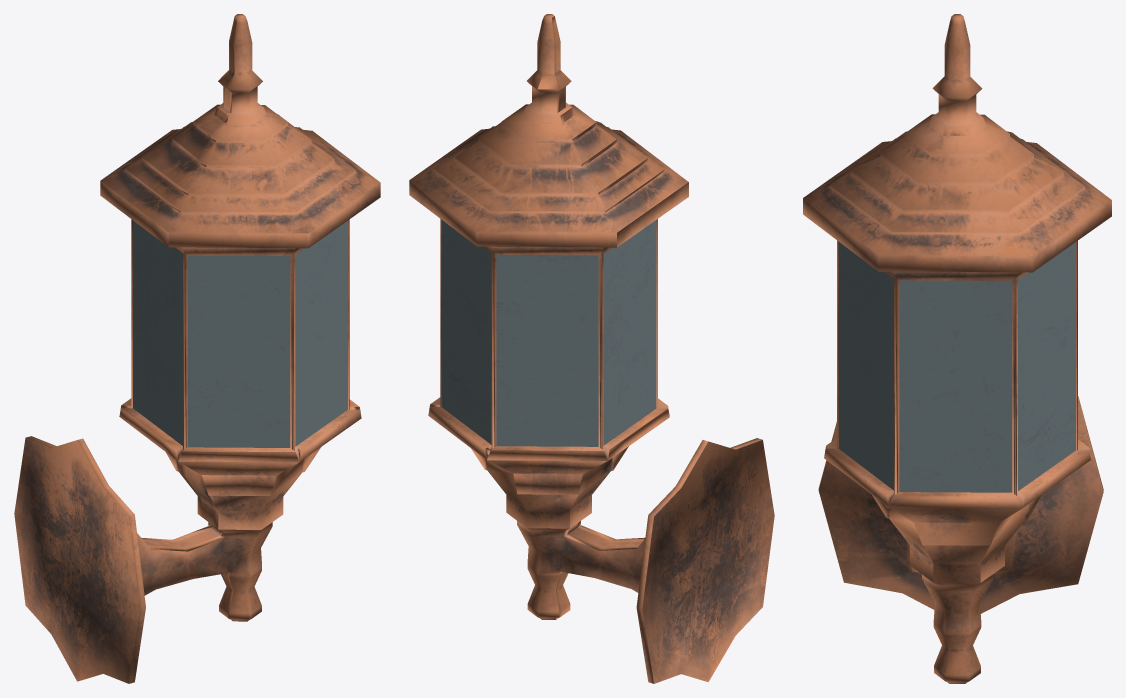
File: lamp_with_holes.fbx
3 views of the same model, side by side, from view 1: azimuth 30°, elevation 25°; view 2: azimuth 150°, elevation 25°; view 3: azimuth 270°, elevation 25° (orthographic). The views are drawn at different scales.
Parts seen in each view (by area): view 1: lamp2; view 2: lamp2; view 3: lamp2.
Boxes of the visible parts, <box> form: lamp2: <box>14,14,380,683</box>; lamp2: <box>409,14,774,683</box>; lamp2: <box>803,14,1111,683</box>.
Size of the model in its own units: 53.84 by 120 by 48.52.
